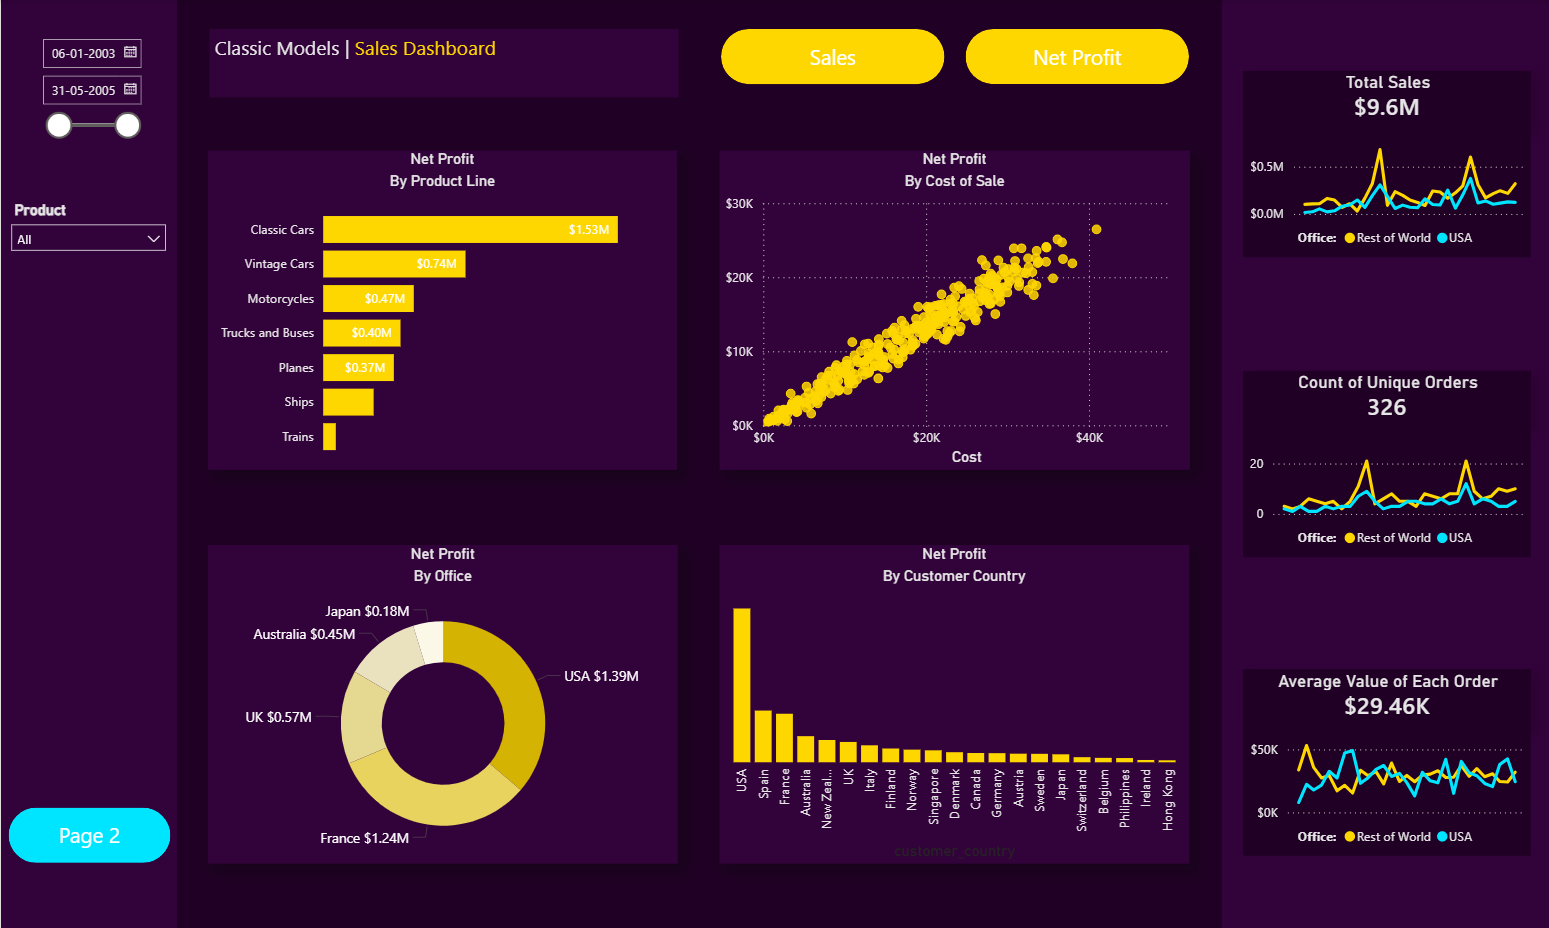

Layout of this report page (visuals, bound fields, positions):
{"tool":"powerbi","page":{"name":"Sales overview - Page 1","canvas":[1500,900],"ordinal":0},"visuals":[{"type":"shape","box":[0,0,170,900.6],"z":0},{"type":"shape","box":[1179.7,0,319.8,900.6],"z":1000},{"type":"shape","box":[1200.8,70.1,277.7,179.6],"z":2000},{"type":"shape","box":[1200.8,359.1,277.7,179.6],"z":3000},{"type":"shape","box":[1200.8,648.1,277.7,179.6],"z":4000},{"type":"cardVisual","title":"Total Sales","fields":{"Data":["Sum(classicmodels sales_data_for_power_bi.sales_value)"]},"box":[1202.2,70.1,276.3,50.5],"z":5000},{"type":"cardVisual","title":"Count of Unique Orders","fields":{"Data":["Count(classicmodels sales_data_for_power_bi.orderNumber)"]},"box":[1202.2,359.1,276.3,50.5],"z":6000},{"type":"cardVisual","title":"Average Value of Each Order","fields":{"Data":["classicmodels sales_data_for_power_bi.Average Sales Value per Order"]},"box":[1202.2,648.1,276.3,50.5],"z":7000},{"type":"lineChart","fields":{"Y":["Sum(classicmodels sales_data_for_power_bi.sales_value)"],"Category":["classicmodels sales_data_for_power_bi.orderDate.Variation.Date Hierarchy.Year","classicmodels sales_data_for_power_bi.orderDate.Variation.Date Hierarchy.Quarter","classicmodels sales_data_for_power_bi.orderDate.Variation.Date Hierarchy.Month"],"Series":["classicmodels sales_data_for_power_bi.Office Grouped"]},"box":[1202.2,120.6,276.3,129.1],"z":8000},{"type":"lineChart","fields":{"Series":["classicmodels sales_data_for_power_bi.Office Grouped"],"Category":["classicmodels sales_data_for_power_bi.orderDate.Variation.Date Hierarchy.Year","classicmodels sales_data_for_power_bi.orderDate.Variation.Date Hierarchy.Quarter","classicmodels sales_data_for_power_bi.orderDate.Variation.Date Hierarchy.Month"],"Y":["Count(classicmodels sales_data_for_power_bi.orderNumber)"]},"box":[1202.2,409.6,276.3,129.1],"z":9000},{"type":"lineChart","fields":{"Series":["classicmodels sales_data_for_power_bi.Office Grouped"],"Category":["classicmodels sales_data_for_power_bi.orderDate.Variation.Date Hierarchy.Year","classicmodels sales_data_for_power_bi.orderDate.Variation.Date Hierarchy.Quarter","classicmodels sales_data_for_power_bi.orderDate.Variation.Date Hierarchy.Month"],"Y":["classicmodels sales_data_for_power_bi.Average Sales Value per Order"]},"box":[1202.2,698.6,276.3,129.1],"z":10000},{"type":"clusteredBarChart","fields":{"Category":["classicmodels sales_data_for_power_bi.productLine"],"Y":["Table.Selected Metric"]},"box":[200.1,145.9,453.1,308.6],"z":11000},{"type":"actionButton","box":[695.8,29.5,216,53.3],"z":12000},{"type":"actionButton","box":[932.8,29.5,216,53.3],"z":13000},{"type":"scatterChart","fields":{"Y":["Table.Selected Metric"],"X":["Sum(classicmodels sales_data_for_power_bi.cost_of_sales)"],"Category":["classicmodels sales_data_for_power_bi.orderNumber"]},"box":[693.9,145.9,454.5,308.6],"z":15000},{"type":"donutChart","fields":{"Y":["Table.Selected Metric"],"Category":["classicmodels sales_data_for_power_bi.office_country"]},"box":[199.6,528.3,453.8,308],"z":16000},{"type":"columnChart","fields":{"Category":["classicmodels sales_data_for_power_bi.customer_country"],"Y":["Table.Selected Metric"]},"box":[694,528.3,453.8,308],"z":17000},{"type":"textbox","box":[202,29.5,453.1,65.9],"z":18000},{"type":"actionButton","box":[7.2,781.4,156.6,53.6],"z":19000},{"type":"slicer","fields":{"Values":["classicmodels sales_data_for_power_bi.orderDate"]},"box":[27.5,29,116,117.4],"z":20000},{"type":"slicer","fields":{"Values":["classicmodels sales_data_for_power_bi.productName"]},"box":[0,189.9,169.6,79.7],"z":21000}]}

Visuals, with their boxes on the page's 1500x900 design canvas (x1, y1, x2, y2). These are canvas units, not pixel positions in the 1549x928 screenshot, which may show the page scaled, cropped or inside an application window:
shape: bbox(0, 0, 170, 901)
shape: bbox(1180, 0, 1500, 901)
shape: bbox(1201, 70, 1478, 250)
shape: bbox(1201, 359, 1478, 539)
shape: bbox(1201, 648, 1478, 828)
"Total Sales" cardVisual: bbox(1202, 70, 1478, 121)
"Count of Unique Orders" cardVisual: bbox(1202, 359, 1478, 410)
"Average Value of Each Order" cardVisual: bbox(1202, 648, 1478, 699)
lineChart - Sum(classicmodels sales_data_for_power_bi.sales_value) x classicmodels sales_data_for_power_bi.orderDate.Variation.Date Hierarchy.Year: bbox(1202, 121, 1478, 250)
lineChart - classicmodels sales_data_for_power_bi.Office Grouped x classicmodels sales_data_for_power_bi.orderDate.Variation.Date Hierarchy.Year: bbox(1202, 410, 1478, 539)
lineChart - classicmodels sales_data_for_power_bi.Office Grouped x classicmodels sales_data_for_power_bi.orderDate.Variation.Date Hierarchy.Year: bbox(1202, 699, 1478, 828)
clusteredBarChart - classicmodels sales_data_for_power_bi.productLine x Table.Selected Metric: bbox(200, 146, 653, 454)
actionButton: bbox(696, 30, 912, 83)
actionButton: bbox(933, 30, 1149, 83)
scatterChart - Table.Selected Metric x Sum(classicmodels sales_data_for_power_bi.cost_of_sales): bbox(694, 146, 1148, 454)
donutChart - Table.Selected Metric x classicmodels sales_data_for_power_bi.office_country: bbox(200, 528, 653, 836)
columnChart - classicmodels sales_data_for_power_bi.customer_country x Table.Selected Metric: bbox(694, 528, 1148, 836)
textbox: bbox(202, 30, 655, 95)
actionButton: bbox(7, 781, 164, 835)
slicer - classicmodels sales_data_for_power_bi.orderDate: bbox(28, 29, 144, 146)
slicer - classicmodels sales_data_for_power_bi.productName: bbox(0, 190, 170, 270)
